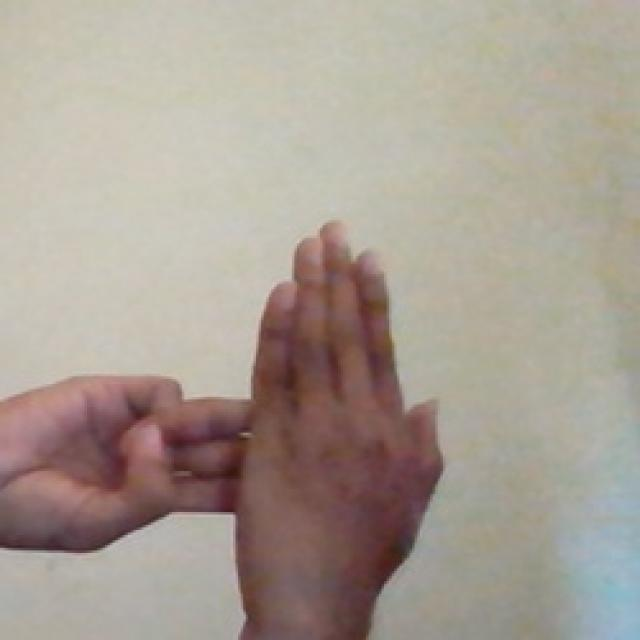Alphabet-M: (0, 190, 455, 640)
